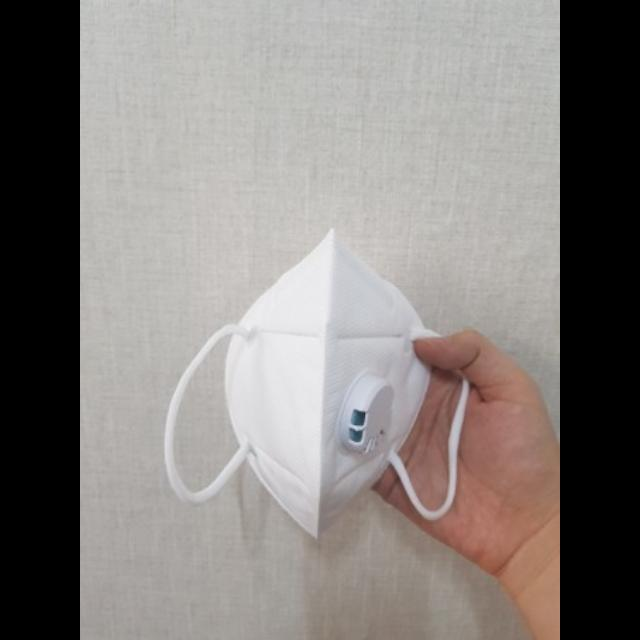masks: (141, 226, 505, 560)
